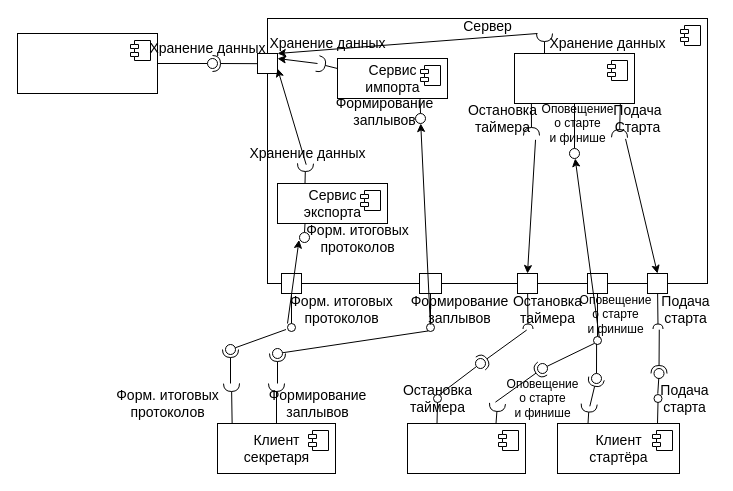
Some shapes in this 733 by 491 pixel diagram are drawn without their labels. Here are the shapes that lost their labels. From the top down, the centre of each, then its label:
pixel 87 63: База данных
pixel 574 78: Сервис хронометража
pixel 466 448: Клиент секундометриста
